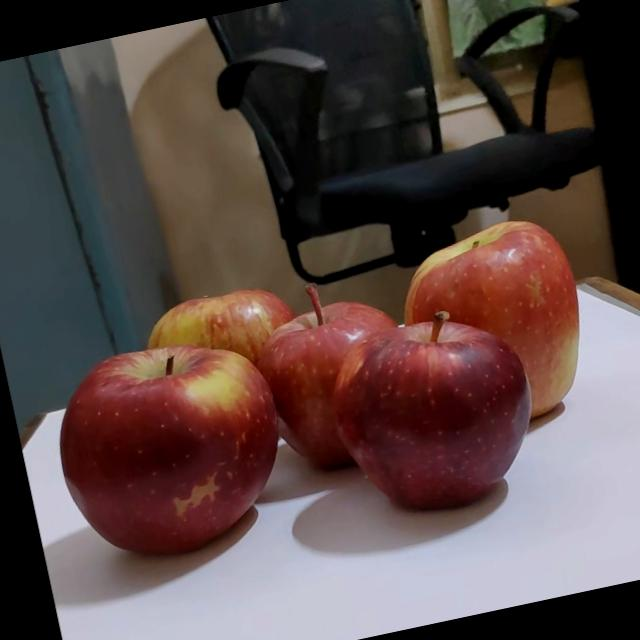apple: (43, 319, 311, 573), (322, 303, 550, 523), (392, 208, 600, 438), (241, 268, 428, 482), (136, 263, 330, 421)
